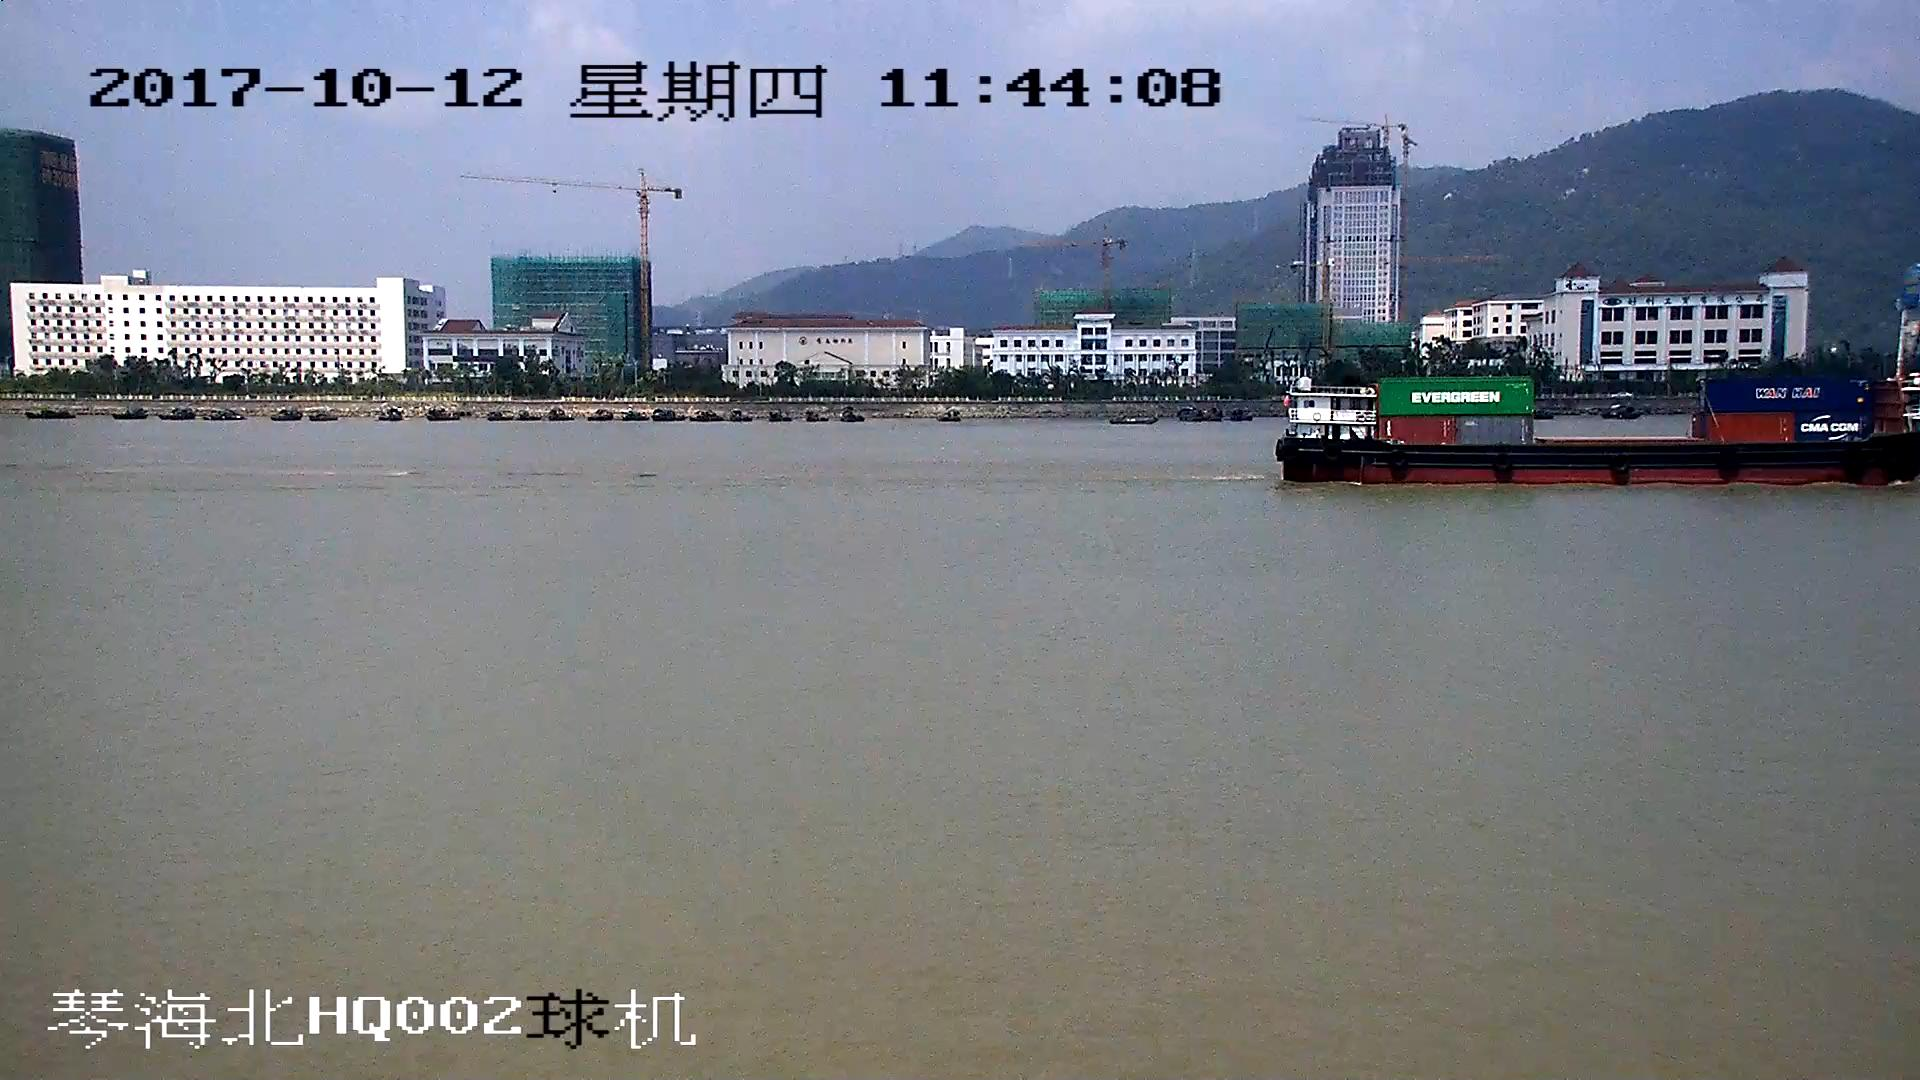container ship: (1280, 376, 1920, 486)
